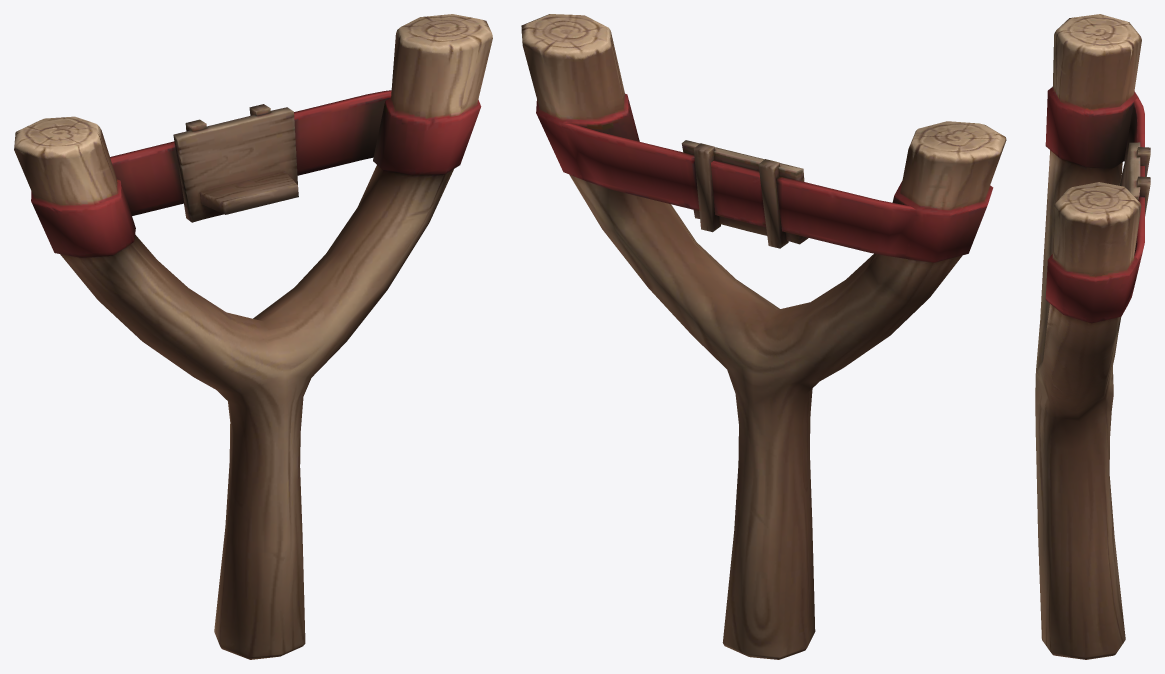
Rendered from SlingshotGeo.obj.
3 views of the same model, side by side, from view 1: azimuth 30°, elevation 25°; view 2: azimuth 150°, elevation 25°; view 3: azimuth 270°, elevation 25° (orthographic). The views are drawn at different scales.
Visible parts, largest first — view 1: SlingshotGeo; view 2: SlingshotGeo; view 3: SlingshotGeo.
Boxes of the visible parts, x1,y1,x2,y2 form: SlingshotGeo: (14,14,492,659); SlingshotGeo: (521,14,1006,659); SlingshotGeo: (1035,14,1150,659).
Size of the model in its own units: 3.94 by 4.5 by 0.8789.
1 material, 1 textured.
